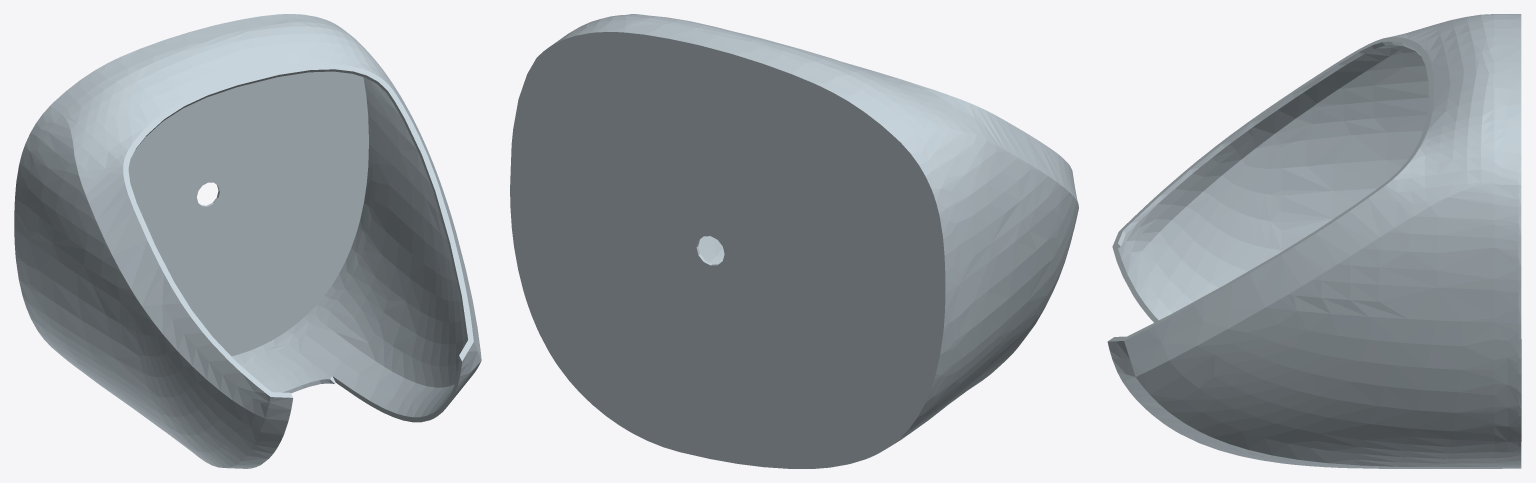
The model's file is right_hip_roll_link.dae.
3 views of the same model, side by side, from view 1: azimuth 30°, elevation 25°; view 2: azimuth 150°, elevation 25°; view 3: azimuth 270°, elevation 25° (orthographic). The views are drawn at different scales.
Parts seen in each view (by area): view 1: right_hip_roll_link; view 2: right_hip_roll_link; view 3: right_hip_roll_link.
Boxes of the visible parts, x1=… form: right_hip_roll_link: x1=14, y1=14, x2=481, y2=468; right_hip_roll_link: x1=510, y1=14, x2=1078, y2=468; right_hip_roll_link: x1=1107, y1=14, x2=1521, y2=468.
Size of the model in its own units: 0.1418 by 0.1297 by 0.1267.
